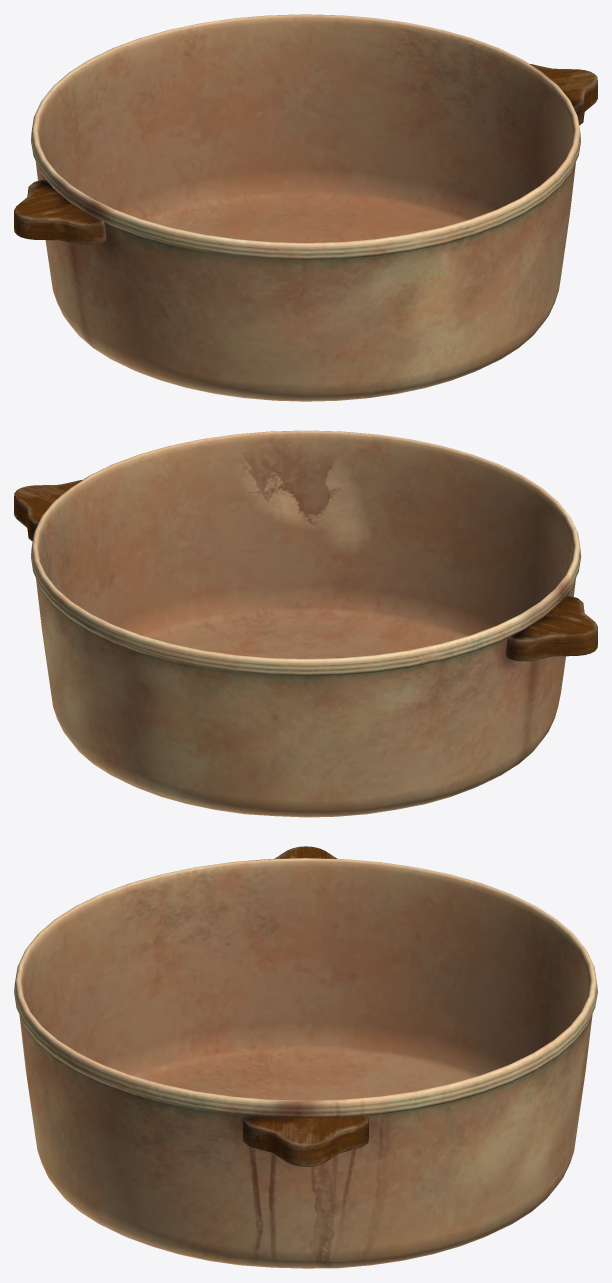
File: brass_pot_02.glb
3 views of the same model, one above another, from view 1: azimuth 30°, elevation 25°; view 2: azimuth 150°, elevation 25°; view 3: azimuth 270°, elevation 25° (orthographic). The views are drawn at different scales.
Visible parts, largest first — view 1: brass_pot_02; view 2: brass_pot_02; view 3: brass_pot_02.
Part boxes in pixels (box(x1,y1,x2,y2)): brass_pot_02: box(14, 14, 597, 401); brass_pot_02: box(14, 430, 597, 817); brass_pot_02: box(14, 846, 597, 1268).
Size of the model in its own units: 0.3667 by 0.1086 by 0.3023.
1 material, 1 textured.
